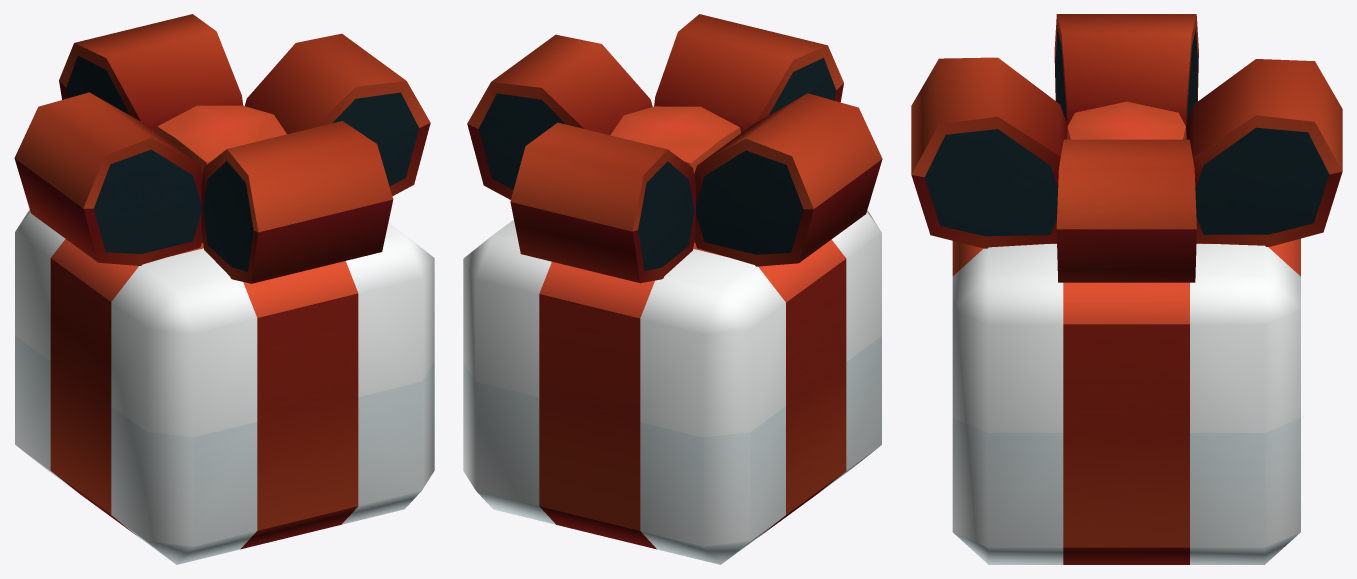
Rendered from presi_square_6_white.fbx.
3 views of the same model, side by side, from view 1: azimuth 30°, elevation 25°; view 2: azimuth 150°, elevation 25°; view 3: azimuth 270°, elevation 25° (orthographic). The views are drawn at different scales.
Parts seen in each view (by area): view 1: presi_square_6_white; view 2: presi_square_6_white; view 3: presi_square_6_white.
Boxes of the visible parts, x1,y1,x2,y2 form: presi_square_6_white: (14, 14, 434, 564); presi_square_6_white: (463, 14, 882, 564); presi_square_6_white: (911, 14, 1342, 564).
Bounding box in the file's own units: 67.54 × 74 × 69.07.
1 material, 1 textured.
